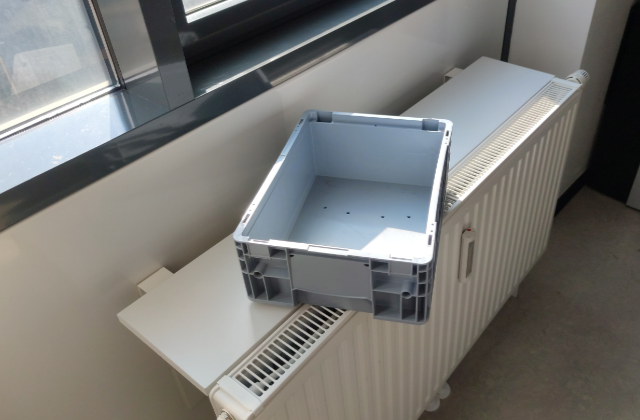Box: (231, 108, 456, 324)
